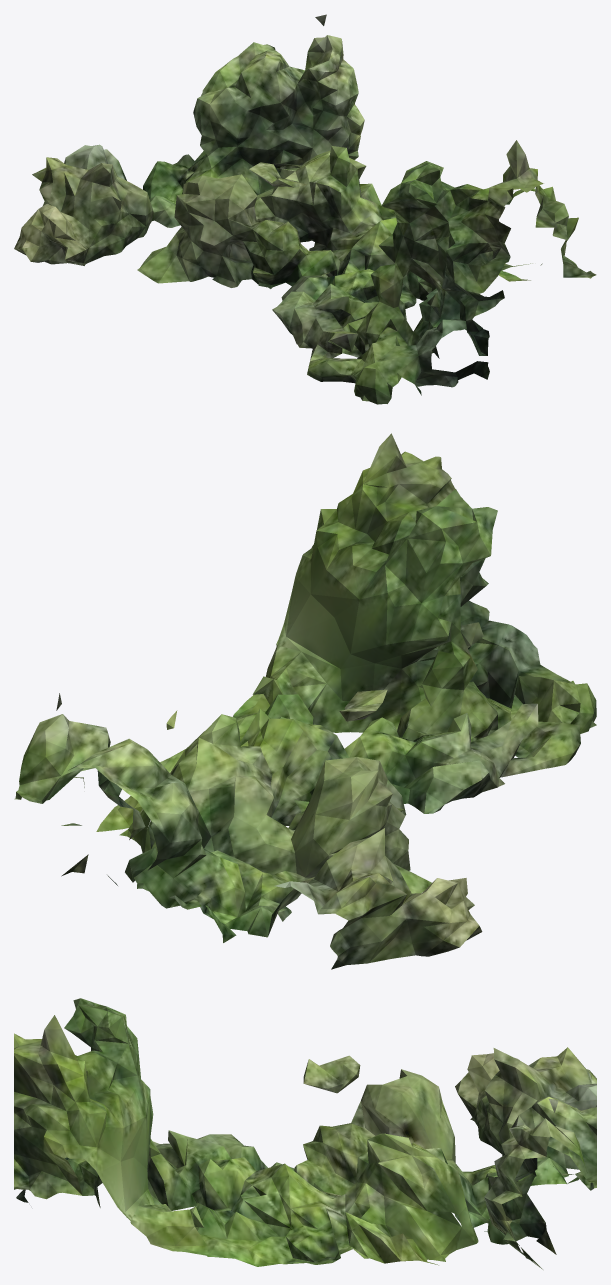
3 renders of one model, top to bottom at view 1: azimuth 30°, elevation 25°; view 2: azimuth 150°, elevation 25°; view 3: azimuth 270°, elevation 25°, orthographic. The views are drawn at different scales.
Bounding box in the file's own units: 37.55 × 22.22 × 52.22.
3 materials, 3 textured.
